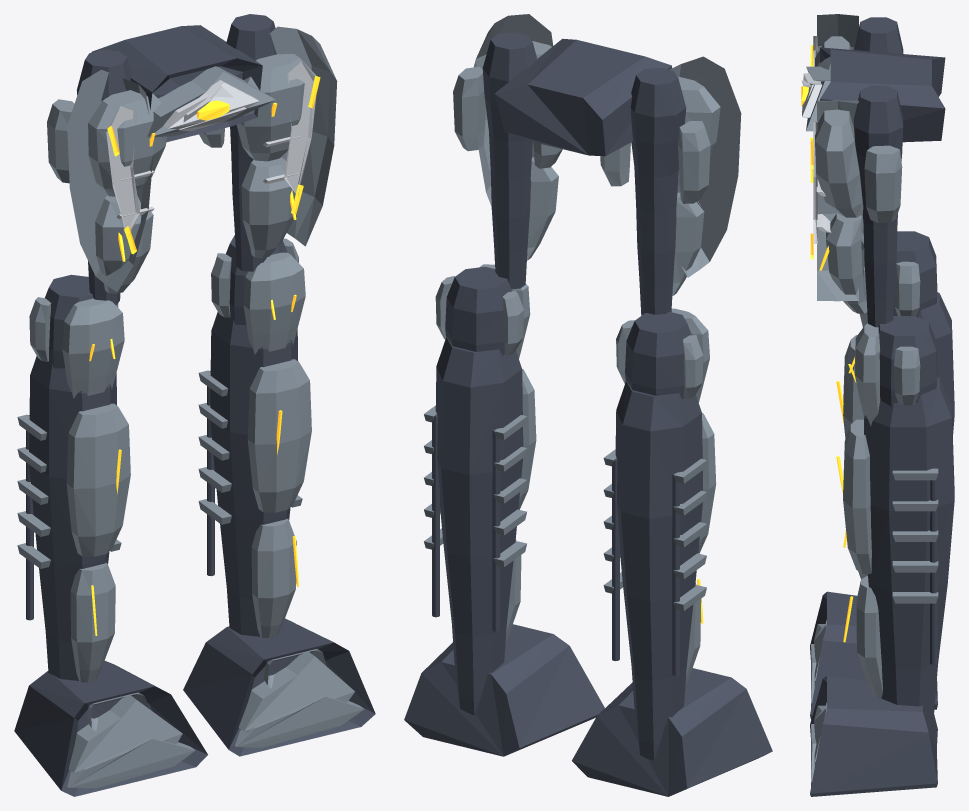
The model's file is BasicLegsW_Skel.glb.
3 views of the same model, side by side, from view 1: azimuth 30°, elevation 25°; view 2: azimuth 150°, elevation 25°; view 3: azimuth 270°, elevation 25° (orthographic). The views are drawn at different scales.
Parts seen in each view (by area): view 1: BasicLegsW_Skel_part05, BasicLegsW_Skel_part02, BasicLegsW_Skel_part01, BasicLegsW_Skel_part04, BasicLegsW_Skel_part03, BasicLegsW_Skel_part06, BasicLegsW_Skel_part00; view 2: BasicLegsW_Skel_part05, BasicLegsW_Skel_part02, BasicLegsW_Skel_part04, BasicLegsW_Skel_part01, BasicLegsW_Skel_part03, BasicLegsW_Skel_part06, BasicLegsW_Skel_part00; view 3: BasicLegsW_Skel_part02, BasicLegsW_Skel_part01, BasicLegsW_Skel_part03, BasicLegsW_Skel_part00, BasicLegsW_Skel_part05, BasicLegsW_Skel_part06, BasicLegsW_Skel_part04.
Boxes of the visible parts, x1=… form: BasicLegsW_Skel_part05: x1=17, y1=274, x2=130, y2=682; BasicLegsW_Skel_part02: x1=198, y1=235, x2=311, y2=637; BasicLegsW_Skel_part01: x1=199, y1=14, x2=337, y2=271; BasicLegsW_Skel_part04: x1=47, y1=49, x2=166, y2=304; BasicLegsW_Skel_part03: x1=183, y1=618, x2=375, y2=756; BasicLegsW_Skel_part06: x1=14, y1=661, x2=207, y2=796; BasicLegsW_Skel_part00: x1=91, y1=25, x2=275, y2=142; BasicLegsW_Skel_part05: x1=603, y1=308, x2=716, y2=760; BasicLegsW_Skel_part02: x1=424, y1=264, x2=536, y2=715; BasicLegsW_Skel_part04: x1=600, y1=56, x2=741, y2=315; BasicLegsW_Skel_part01: x1=453, y1=14, x2=562, y2=289; BasicLegsW_Skel_part03: x1=404, y1=624, x2=604, y2=756; BasicLegsW_Skel_part06: x1=572, y1=668, x2=772, y2=796; BasicLegsW_Skel_part00: x1=494, y1=38, x2=672, y2=156; BasicLegsW_Skel_part02: x1=836, y1=316, x2=954, y2=736; BasicLegsW_Skel_part01: x1=810, y1=85, x2=903, y2=327; BasicLegsW_Skel_part03: x1=810, y1=675, x2=937, y2=796; BasicLegsW_Skel_part00: x1=801, y1=47, x2=945, y2=142; BasicLegsW_Skel_part05: x1=836, y1=231, x2=954, y2=579; BasicLegsW_Skel_part06: x1=810, y1=591, x2=937, y2=719; BasicLegsW_Skel_part04: x1=810, y1=14, x2=903, y2=244.
Size of the model in its own units: 9.45 by 19.99 by 4.15.
